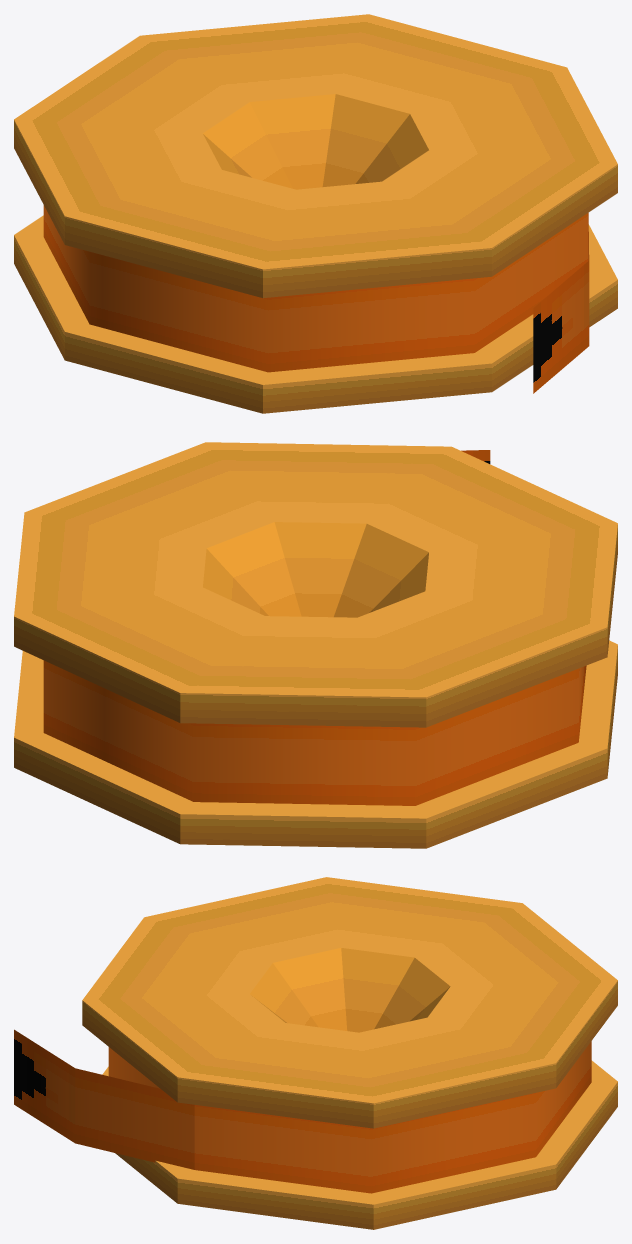
3 renders of one model, top to bottom at view 1: azimuth 30°, elevation 25°; view 2: azimuth 150°, elevation 25°; view 3: azimuth 270°, elevation 25°, orthographic. The views are drawn at different scales.
Parts seen in each view (by area): view 1: 5355so_ribon00; view 2: 5355so_ribon00; view 3: 5355so_ribon00.
Boxes of the visible parts, left/top/right/bottom form: 5355so_ribon00: left=14, top=14, right=617, bottom=413; 5355so_ribon00: left=14, top=442, right=617, bottom=848; 5355so_ribon00: left=14, top=877, right=617, bottom=1229.
Bounding box in the file's own units: 0.2773 × 0.0723 × 0.3127.
Materials: 2 (2 with a texture image).
